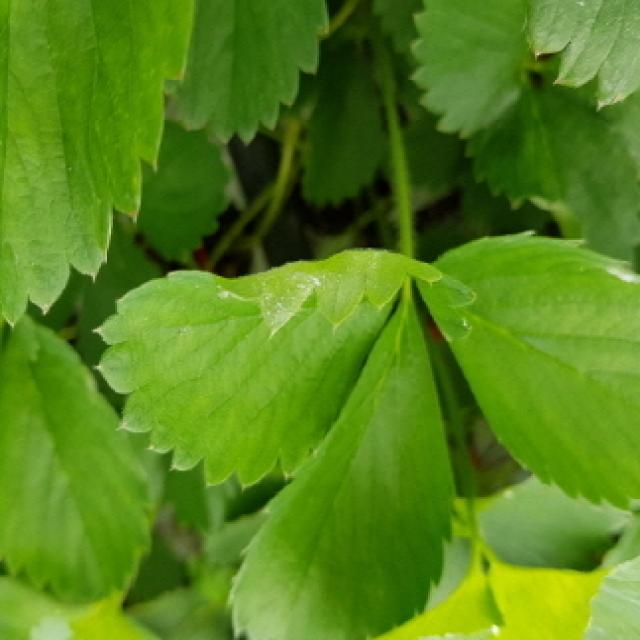Powdery Mildew Leaf: (90, 246, 444, 490), (421, 229, 640, 515)
